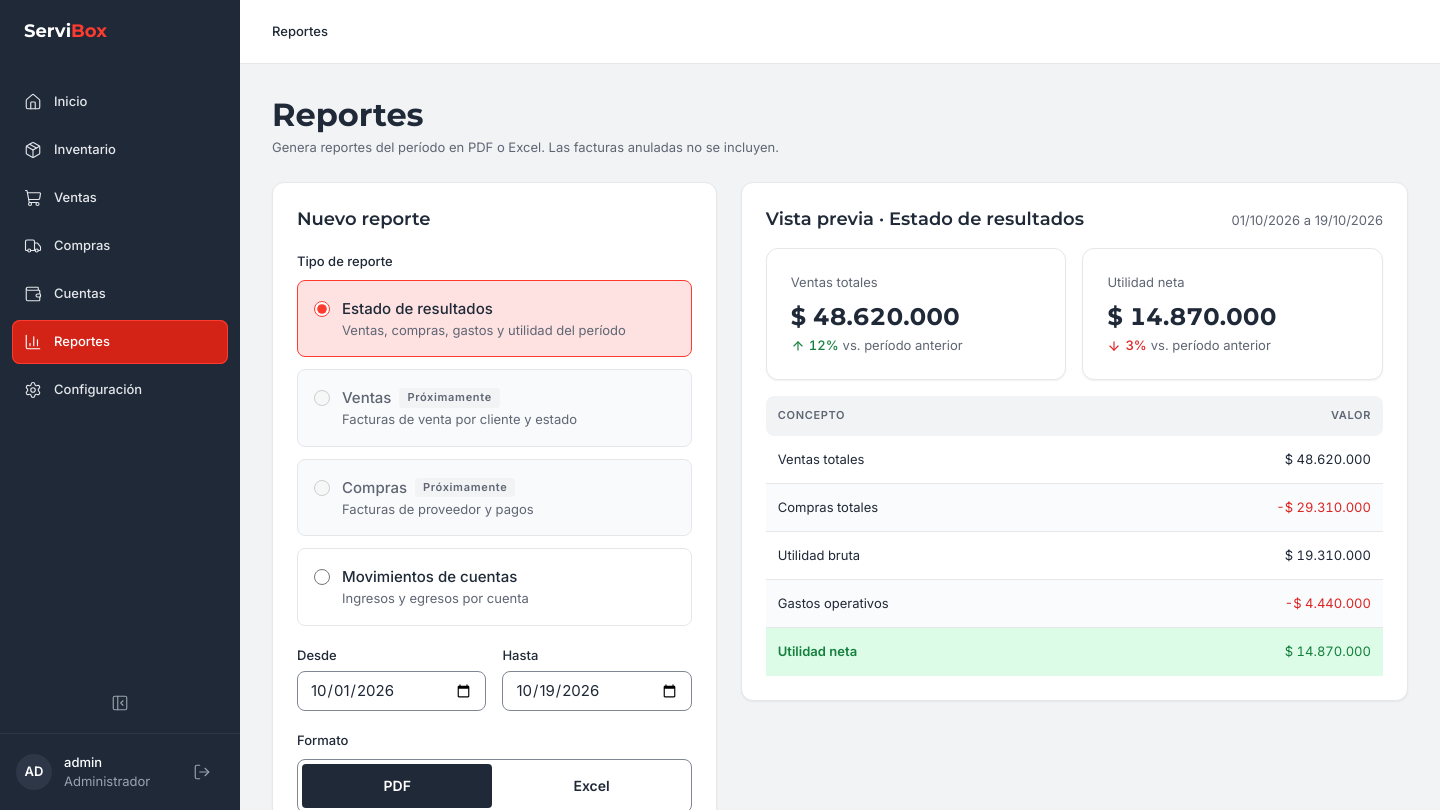
Test: ReportsPage › genera el reporte con los parametros exactos y avisa con el nombre del archivo
Click the radio button labelled "Excel" at (592,785), box [574,777,610,794]
(page scrolled)
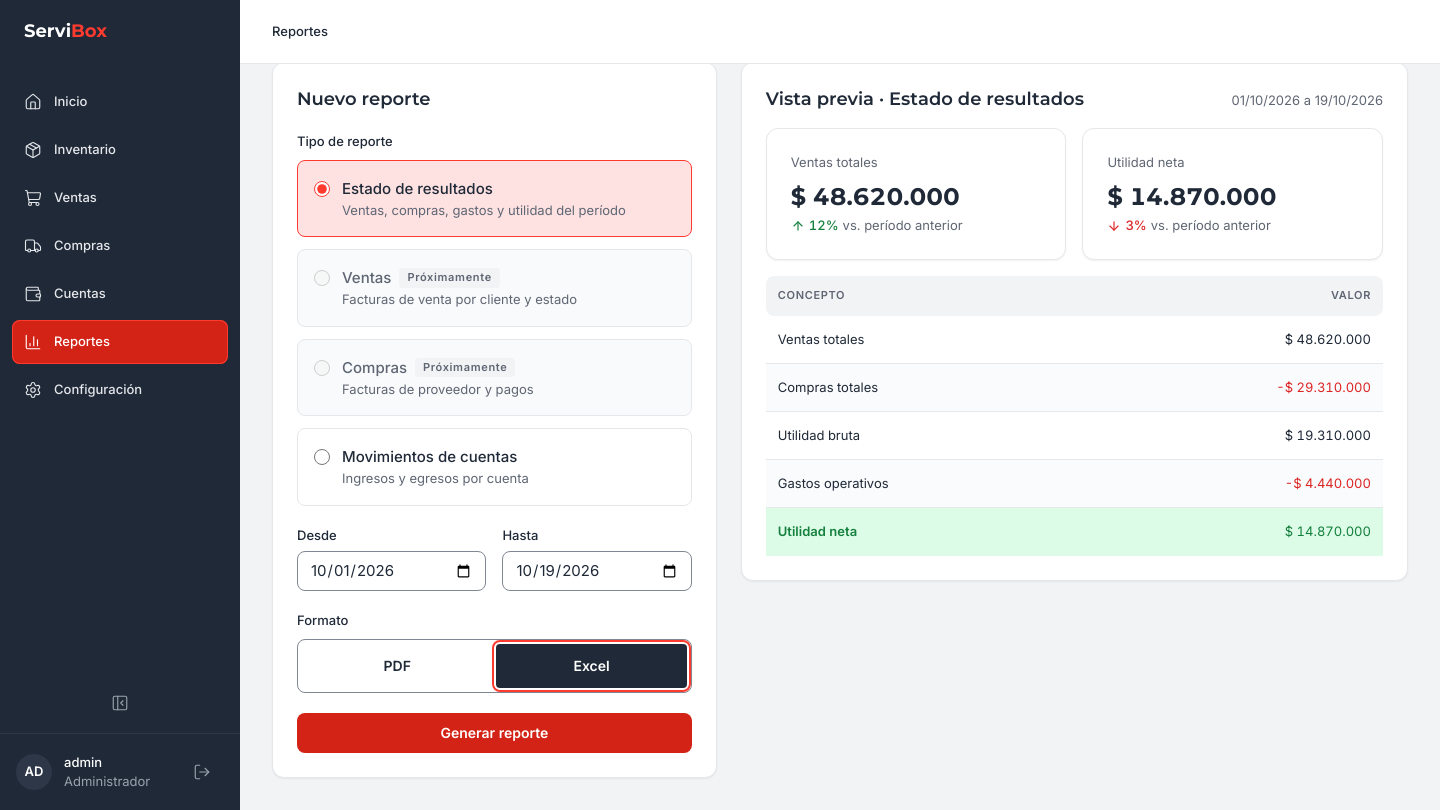
Click the button "Generar reporte" at (494,733), box [297,713,692,753]
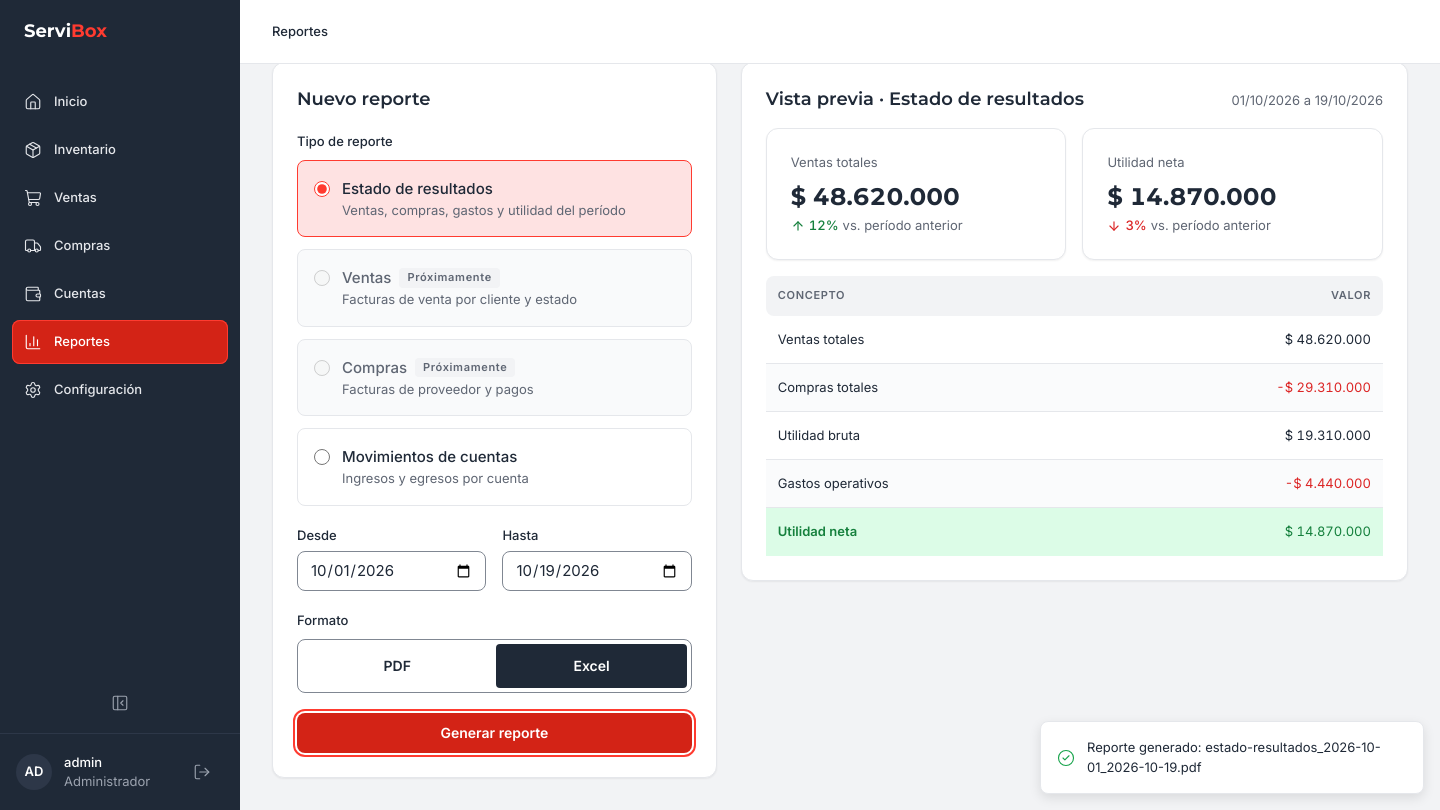
Now the text "Reporte generado: estado-resultados_2026-10-01_2026-10-19.pdf" is shown, box [1087,738,1407,777]
